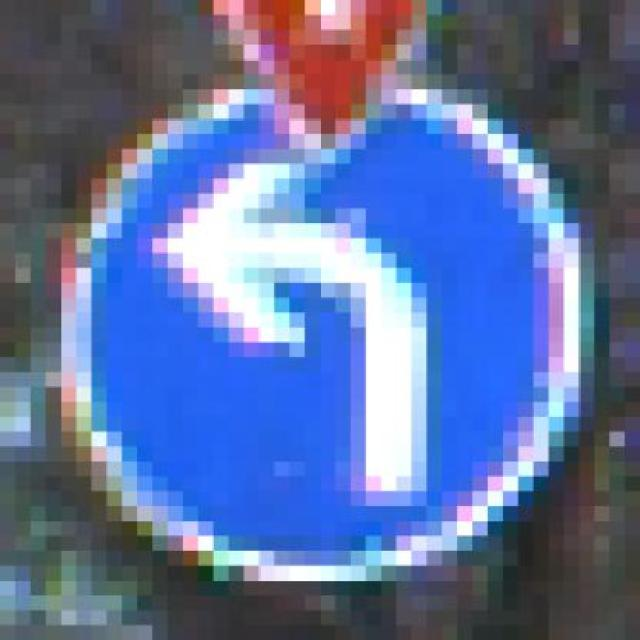Turn left ahead: (46, 44, 594, 596)
